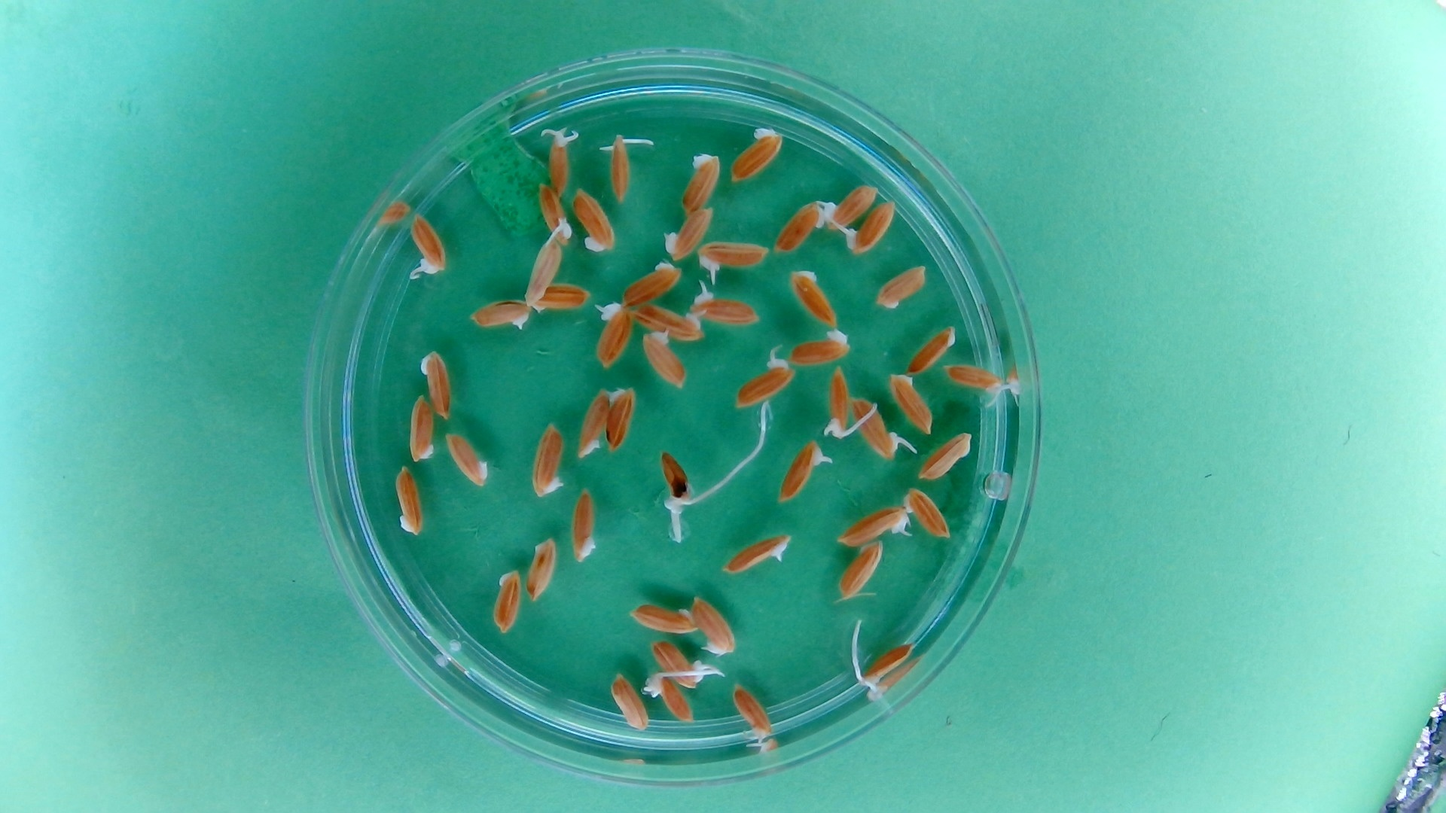no: (728, 126, 786, 187), (523, 230, 566, 307), (886, 370, 935, 436), (788, 266, 840, 328), (917, 429, 974, 485), (572, 185, 618, 254), (688, 592, 737, 656), (662, 203, 715, 262), (528, 420, 567, 500), (639, 328, 688, 390), (621, 258, 684, 306), (837, 540, 885, 603), (722, 532, 794, 574), (821, 181, 879, 233), (679, 150, 723, 218), (901, 484, 953, 541), (416, 346, 454, 422), (443, 429, 490, 489), (905, 323, 957, 376), (575, 385, 612, 459), (874, 263, 929, 312), (636, 301, 702, 340), (392, 463, 426, 538), (786, 330, 853, 368), (730, 681, 773, 740), (608, 672, 649, 732), (536, 181, 573, 247), (404, 393, 438, 464), (627, 601, 697, 635), (603, 384, 637, 453), (525, 535, 559, 604), (569, 486, 599, 564), (490, 568, 523, 635), (468, 299, 532, 332), (529, 284, 594, 315)
yes: (733, 355, 795, 410), (776, 439, 826, 505), (773, 199, 830, 256), (688, 288, 761, 330), (836, 505, 909, 547), (852, 396, 899, 461), (843, 201, 897, 256), (649, 638, 706, 690), (593, 300, 635, 370), (694, 240, 769, 277), (643, 671, 694, 724), (408, 210, 448, 277), (853, 641, 911, 687), (942, 361, 1005, 400), (543, 127, 577, 197), (823, 366, 854, 440), (603, 133, 635, 202), (659, 449, 693, 507)
